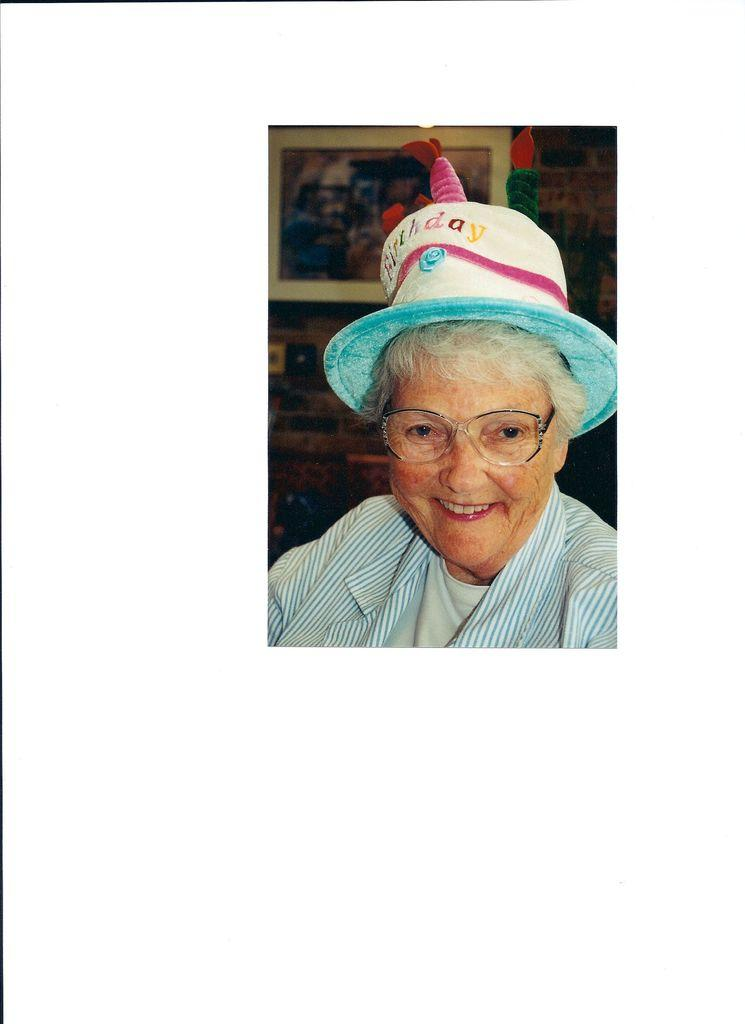Hat: (328, 140, 617, 440)
